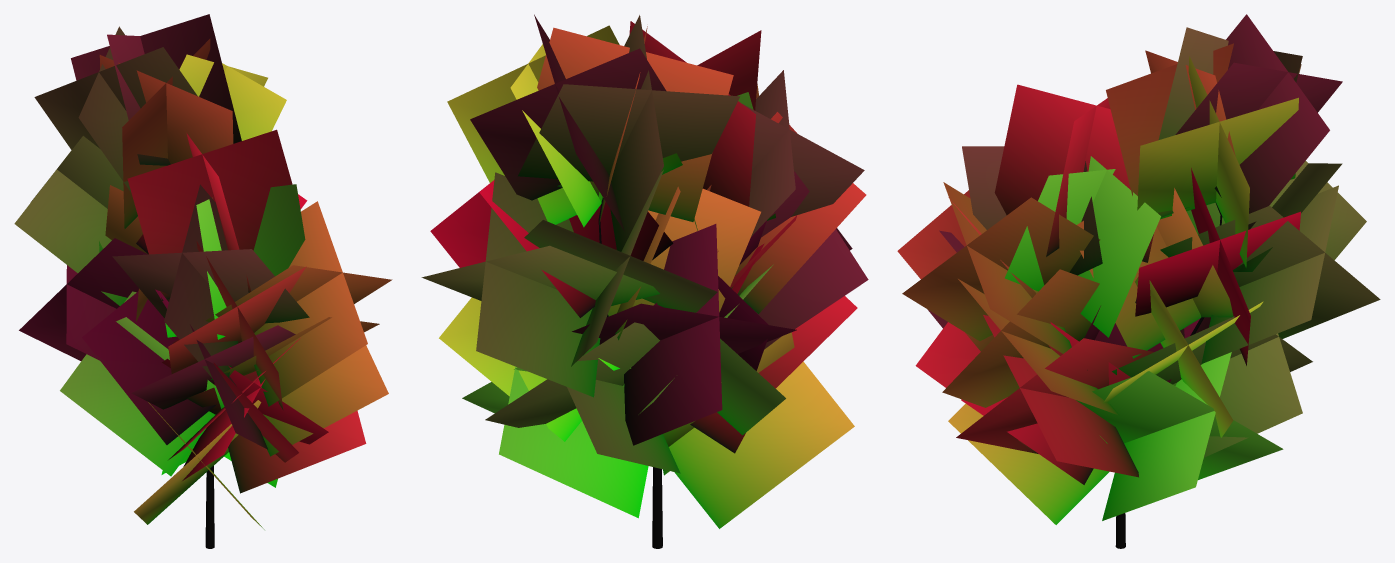
The model's file is Tree_7.fbx.
The picture shows the model from 3 angles, left to right: view 1: azimuth 30°, elevation 25°; view 2: azimuth 150°, elevation 25°; view 3: azimuth 270°, elevation 25°; orthographic projection. The views are drawn at different scales.
Visible parts, largest first — view 1: Tree_7; view 2: Tree_7; view 3: Tree_7.
Boxes of the visible parts, <box> form: Tree_7: <box>14,14,392,548</box>; Tree_7: <box>421,14,868,548</box>; Tree_7: <box>897,14,1380,548</box>.
Bounding box in the file's own units: 397 × 673 × 577.
